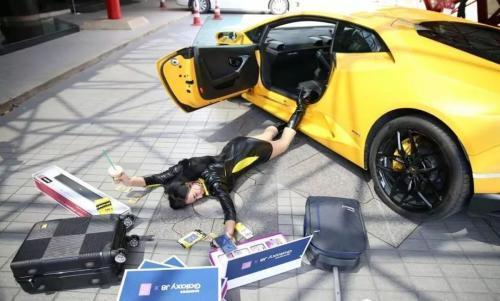Fall-Detected: (96, 81, 338, 241)
